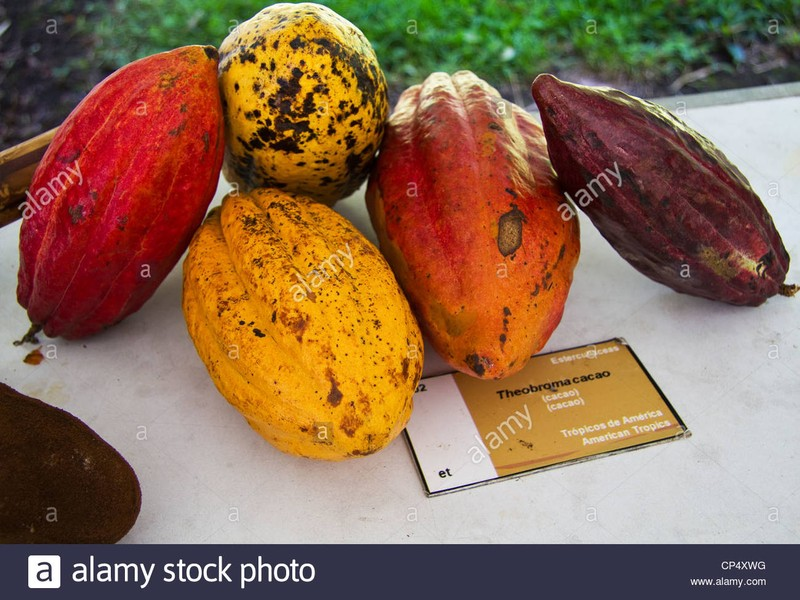Cacaopod: (365, 69, 581, 381), (181, 188, 424, 460), (533, 73, 800, 309), (14, 44, 226, 340)
